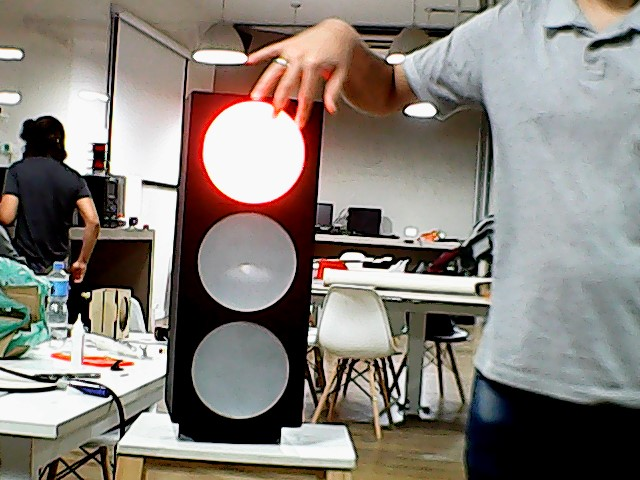vermelho: (166, 82, 334, 428)
